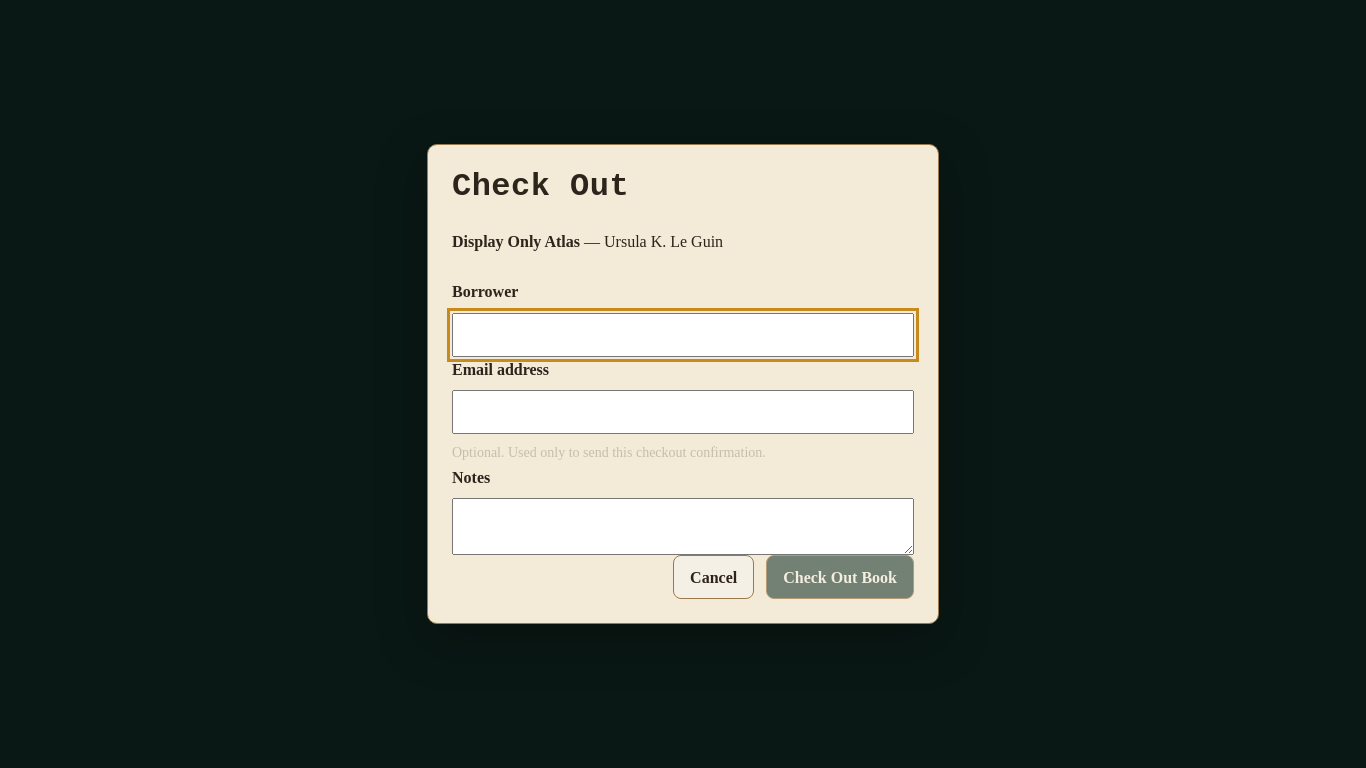
Test: CheckoutDialog › does not submit an ineligible book
This screenshot has width=1366, height=768.
Type "Jane Reader" into the field labelled "Borrower".
click(683, 335); type("Jane Reader")  # box [452,313,914,357]
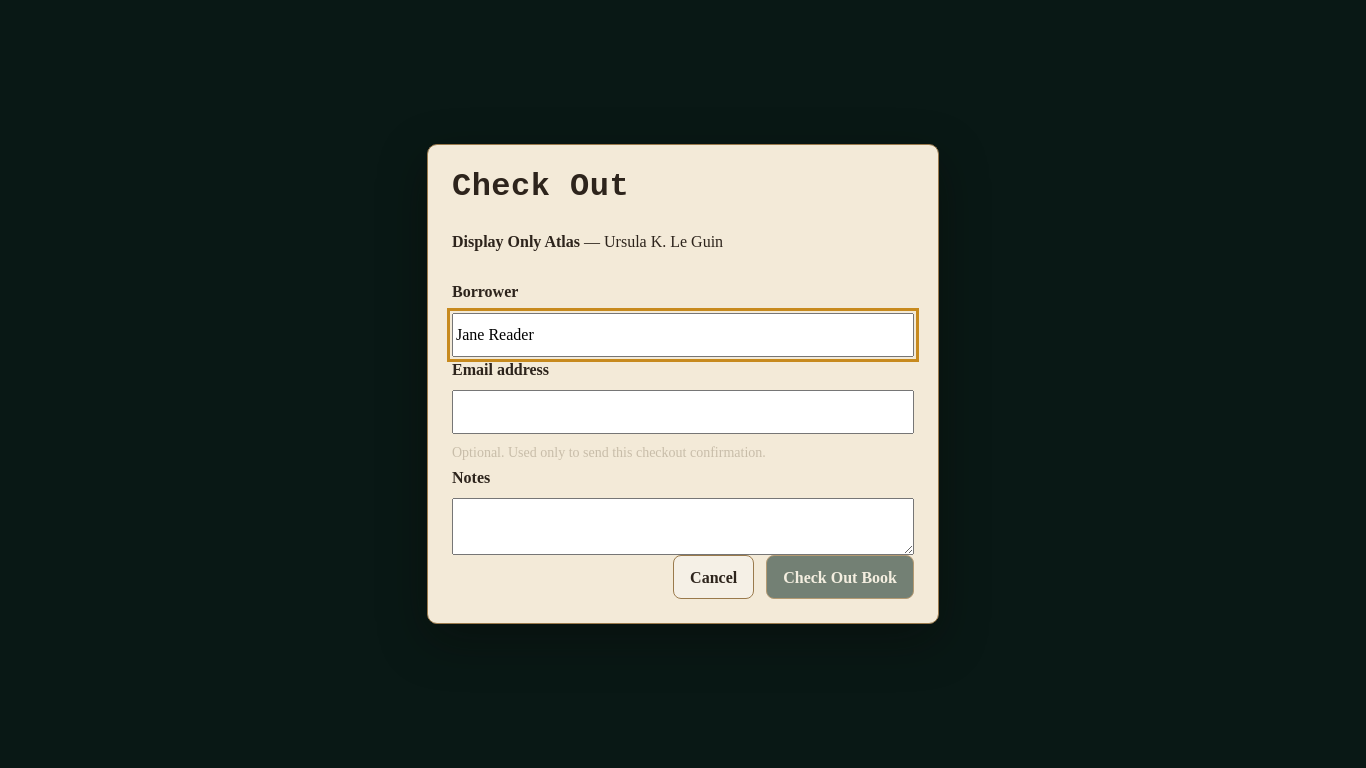
Expected: the button "Check Out Book" is disabled, [766,555,914,599]
Submit the form named "Check Out Book", box [452,279,914,599]
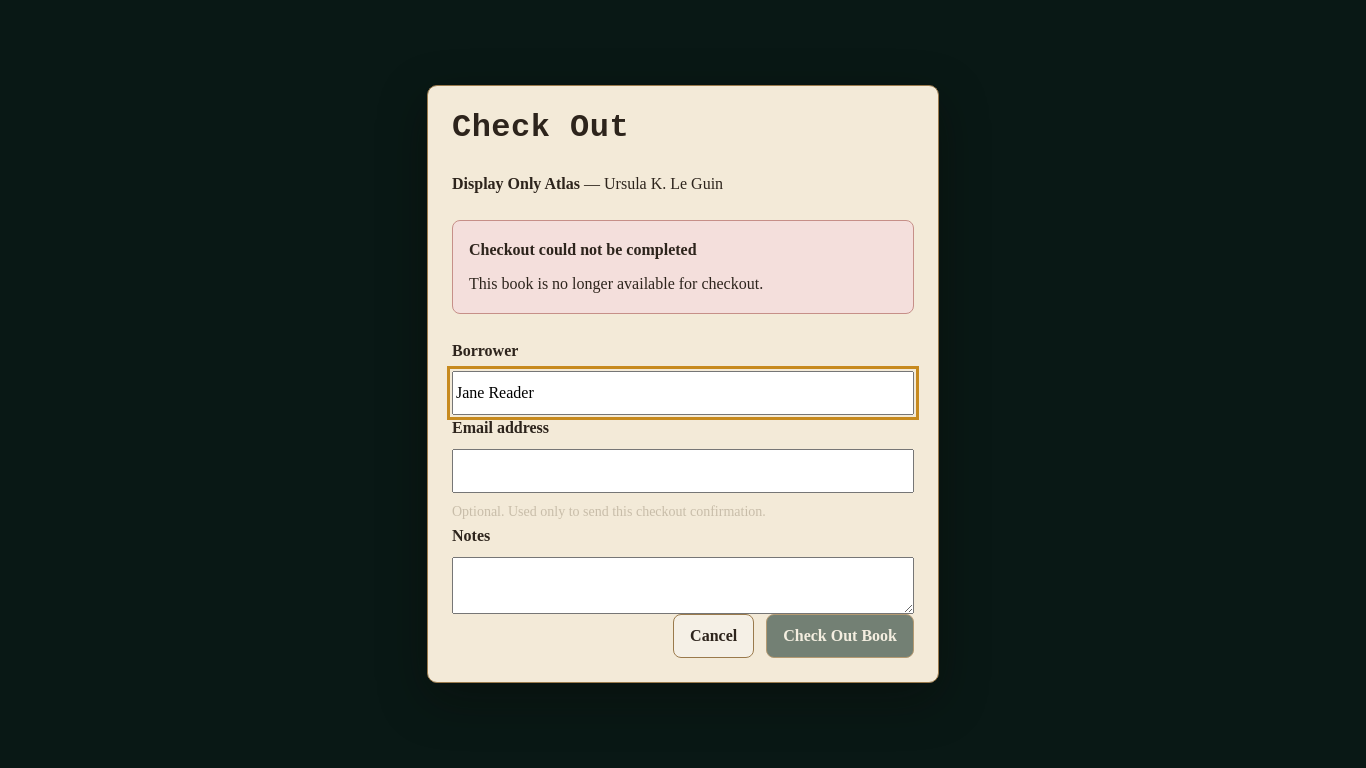
Expected: the text "This book is no longer available for checkout." is shown, [469,275,763,292]
